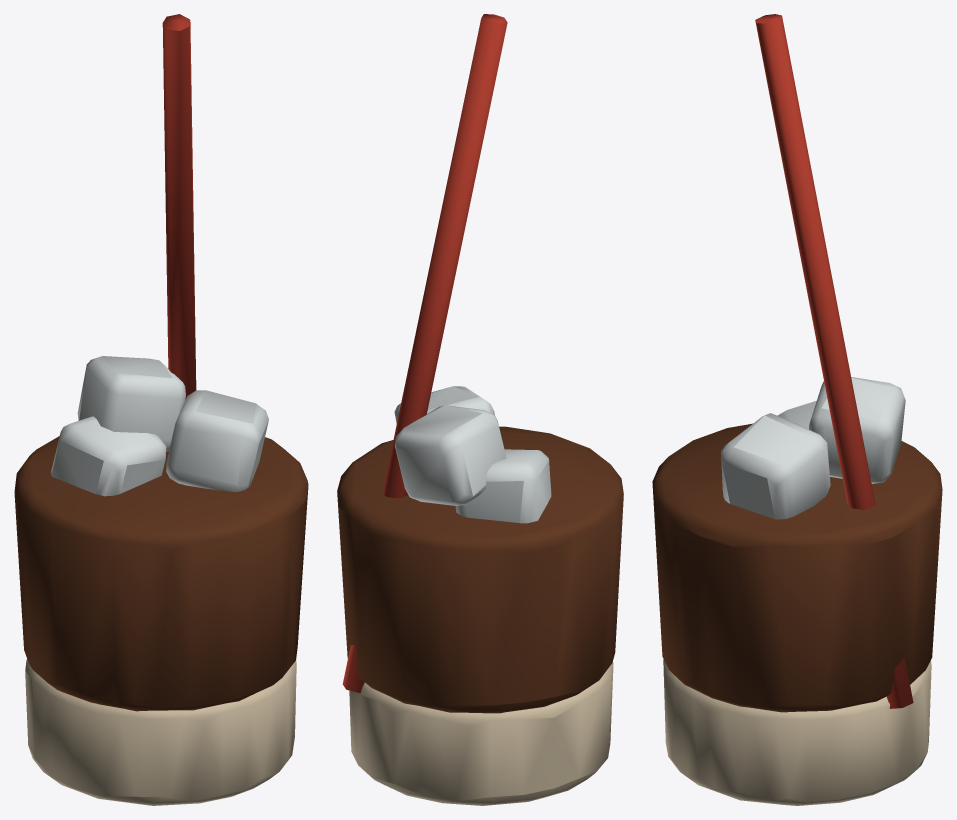
Rendered from ly_caphe.glb.
3 renders of one model, left to right at view 1: azimuth 30°, elevation 25°; view 2: azimuth 150°, elevation 25°; view 3: azimuth 270°, elevation 25°, orthographic. The views are drawn at different scales.
Parts seen in each view (by area): view 1: ly_caphe; view 2: ly_caphe; view 3: ly_caphe.
Boxes of the visible parts, left/top/right/bottom form: ly_caphe: left=14, top=14, right=308, bottom=805; ly_caphe: left=337, top=14, right=623, bottom=805; ly_caphe: left=652, top=14, right=942, bottom=805.
Size of the model in its own units: 0.0793 by 0.2225 by 0.0792.
